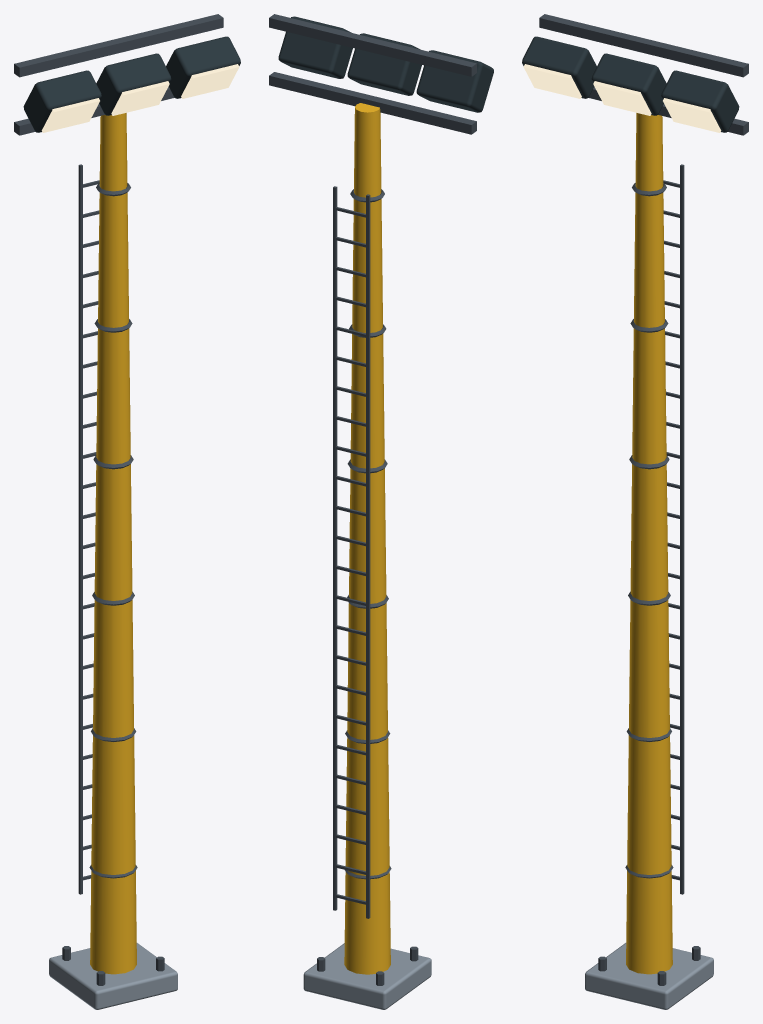
Rendered from rt_flood_mast.glb.
3 renders of one model, left to right at view 1: azimuth 30°, elevation 25°; view 2: azimuth 150°, elevation 25°; view 3: azimuth 330°, elevation 25°, orthographic.
Parts seen in each view (by area): view 1: rt_flood_mast_body; view 2: rt_flood_mast_body; view 3: rt_flood_mast_body.
Boxes of the visible parts, box(x1,y1,x2,y2) form: rt_flood_mast_body: box(14, 14, 240, 1009); rt_flood_mast_body: box(269, 14, 493, 1009); rt_flood_mast_body: box(522, 14, 748, 1009).
Bounding box in the file's own units: 2.2 × 9.75 × 1.07.
